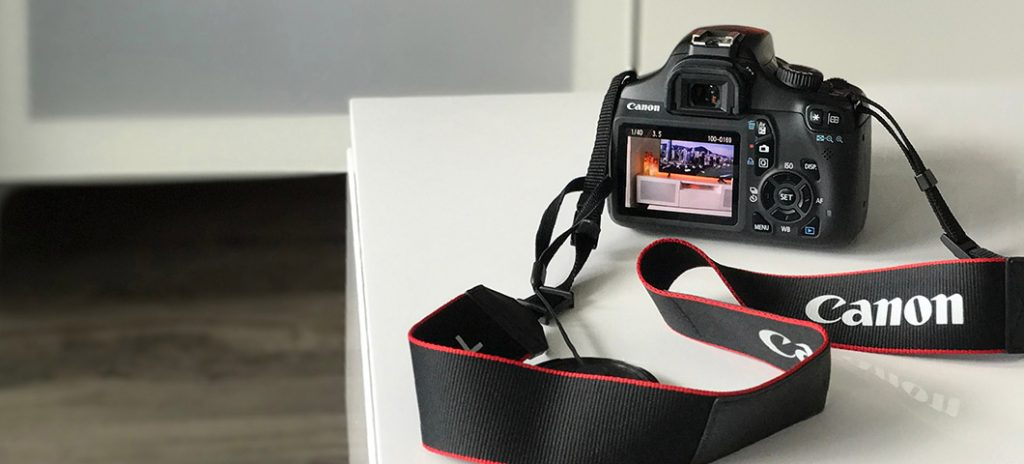camera: (591, 23, 875, 246)
